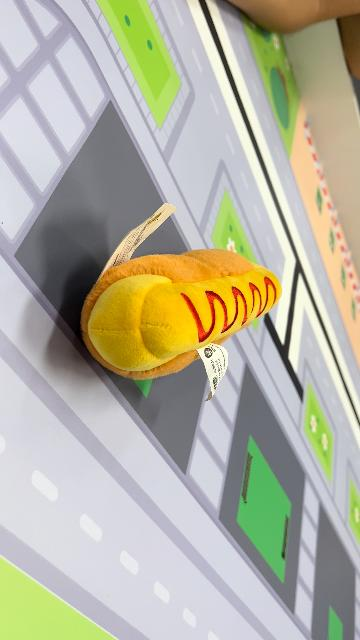hotdog: (80, 248, 282, 382)
